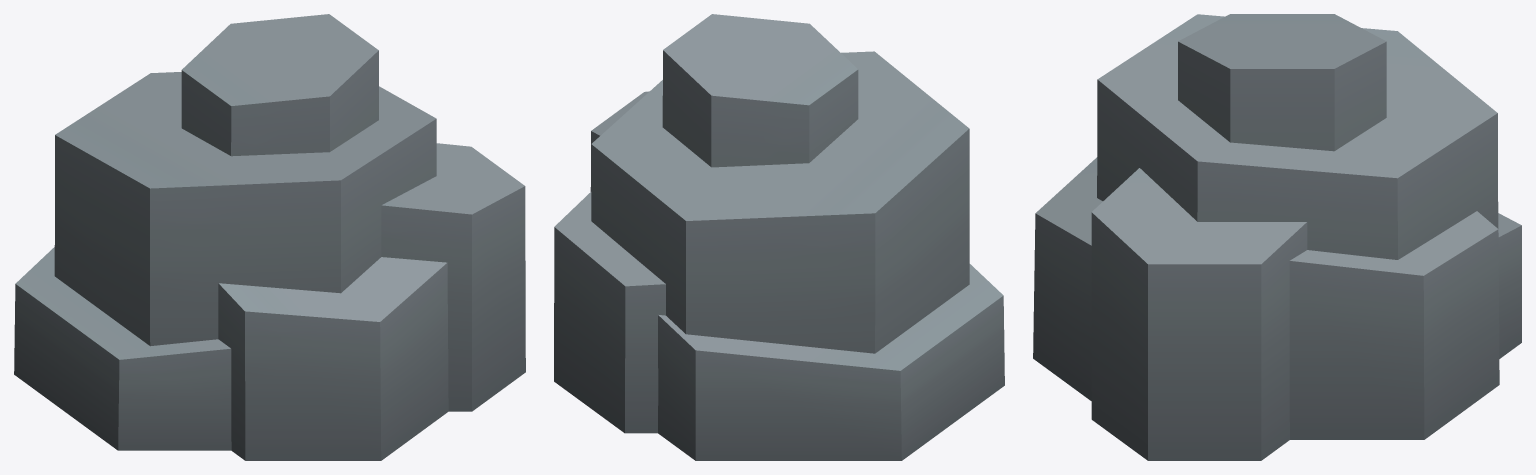
File: d_kaykit_piton.glb
3 views of the same model, side by side, from view 1: azimuth 30°, elevation 25°; view 2: azimuth 150°, elevation 25°; view 3: azimuth 270°, elevation 25° (orthographic). The views are drawn at different scales.
Visible parts, largest first — view 1: d_kaykit_piton; view 2: d_kaykit_piton; view 3: d_kaykit_piton.
Part boxes in pixels (bbox=[...]): d_kaykit_piton: bbox=[14, 14, 525, 460]; d_kaykit_piton: bbox=[554, 14, 1004, 460]; d_kaykit_piton: bbox=[1033, 14, 1521, 460].
Bounding box in the file's own units: 1.8 × 1.43 × 1.88.
Materials: 1 (1 with a texture image).
